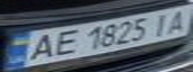1: (81, 24, 106, 52)
2: (115, 18, 136, 46)
5: (130, 15, 157, 43)
8: (100, 21, 121, 48)
A: (21, 30, 63, 62), (160, 7, 193, 34)
E: (45, 27, 84, 57)
I: (145, 10, 175, 38)
